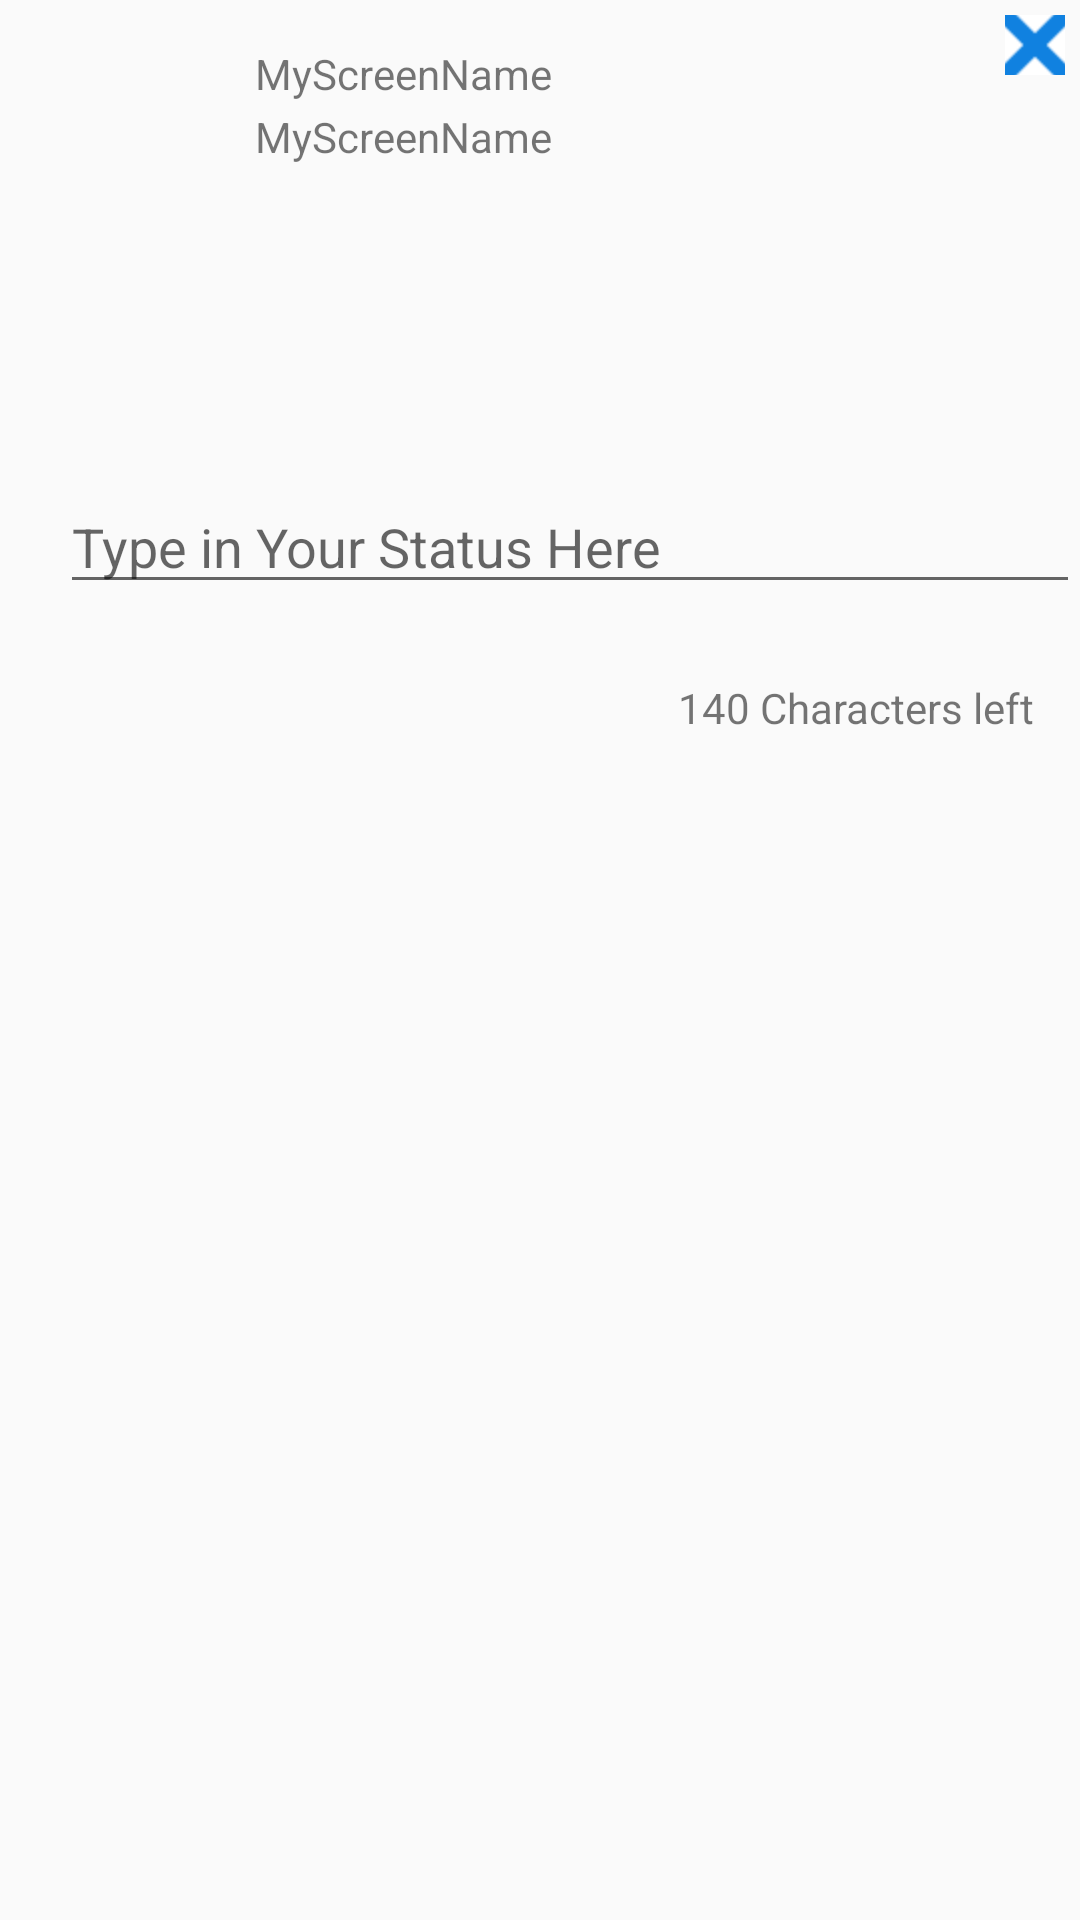

Screen size 1080*1920. Icon name, then its box in pixels as region(x1, y1, x2, y2):
cross: region(1005, 15, 1065, 75)
